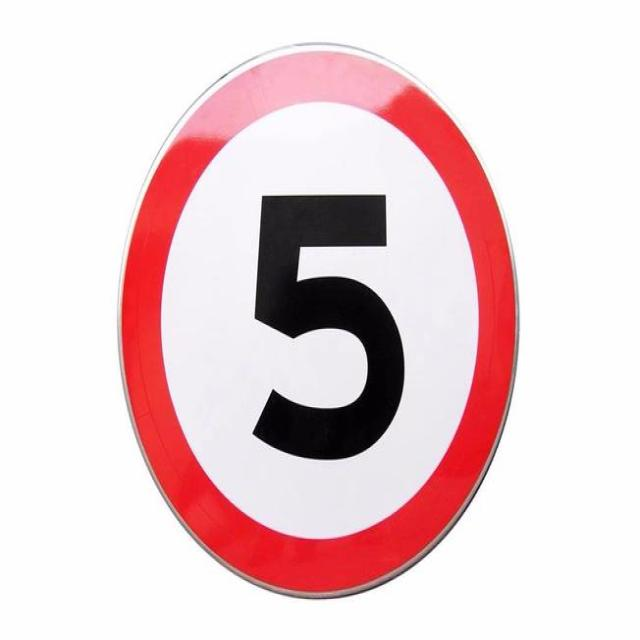speed limit 10: (114, 40, 522, 600)
